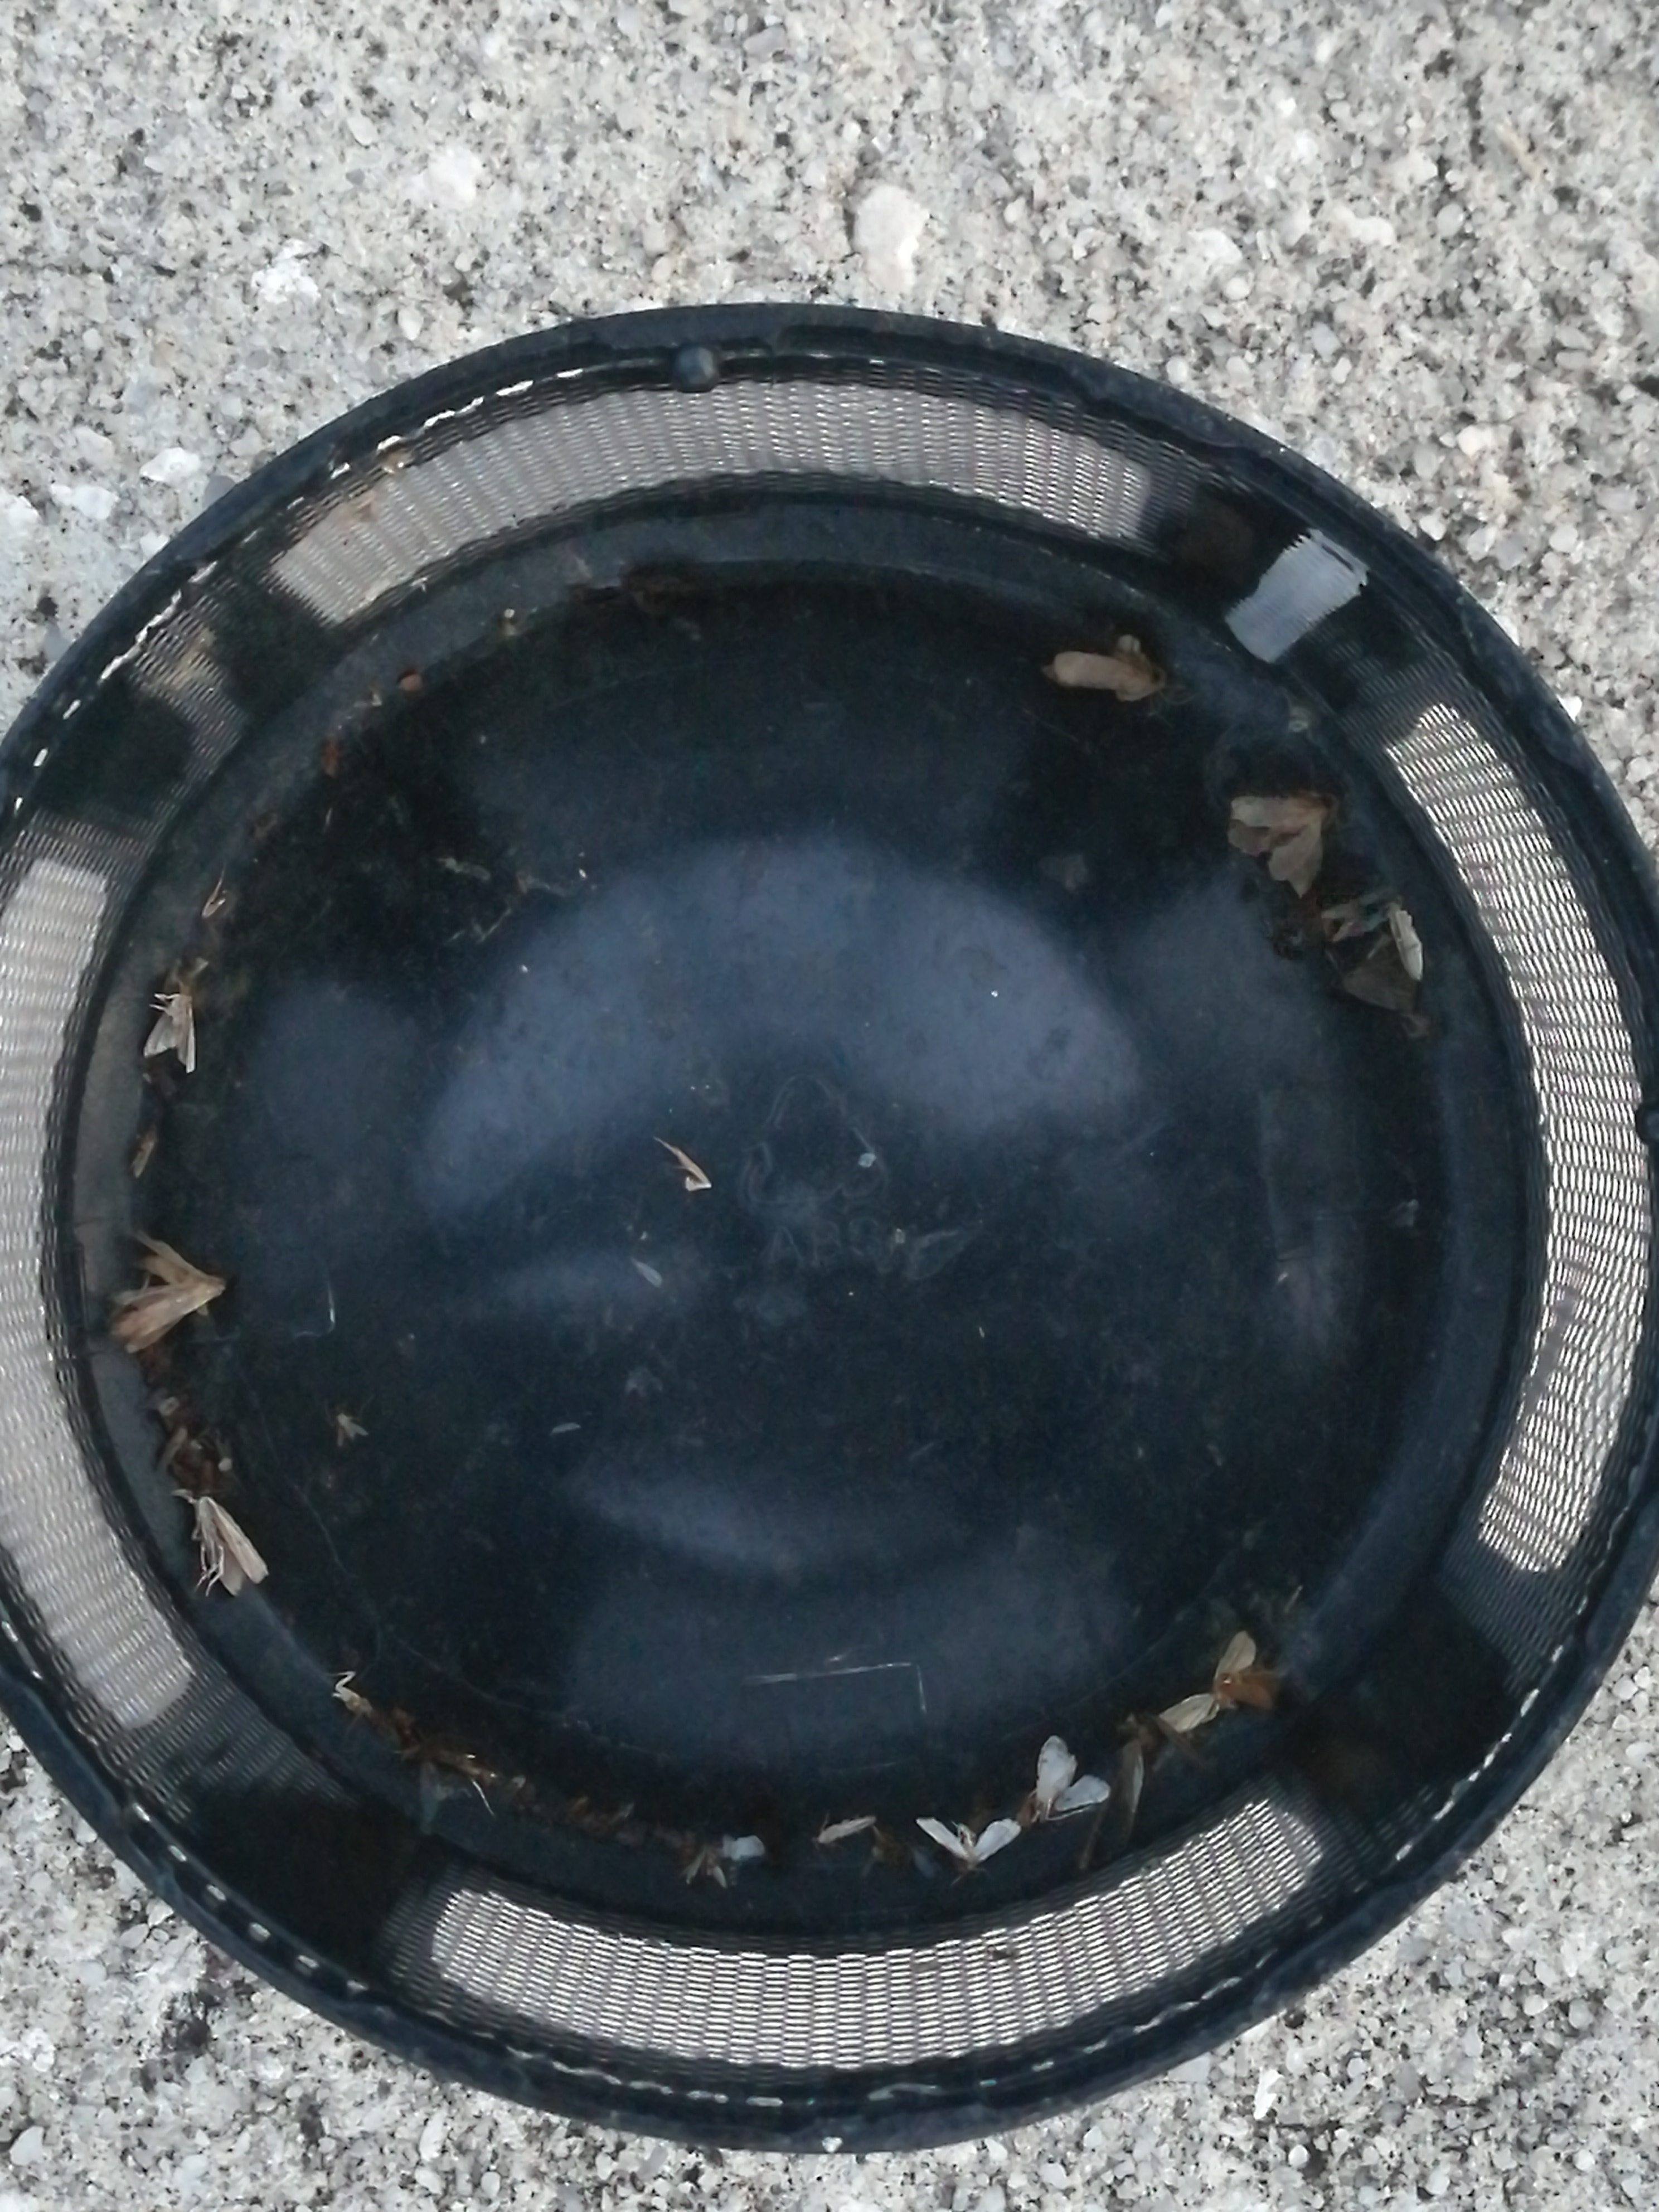mosquito: (200, 1498, 265, 1594)
moth: (113, 1231, 230, 1352), (1161, 1637, 1274, 1733), (1237, 798, 1337, 888), (1035, 1735, 1107, 1817), (920, 1817, 1016, 1871), (1054, 658, 1162, 693), (146, 995, 195, 1068)
